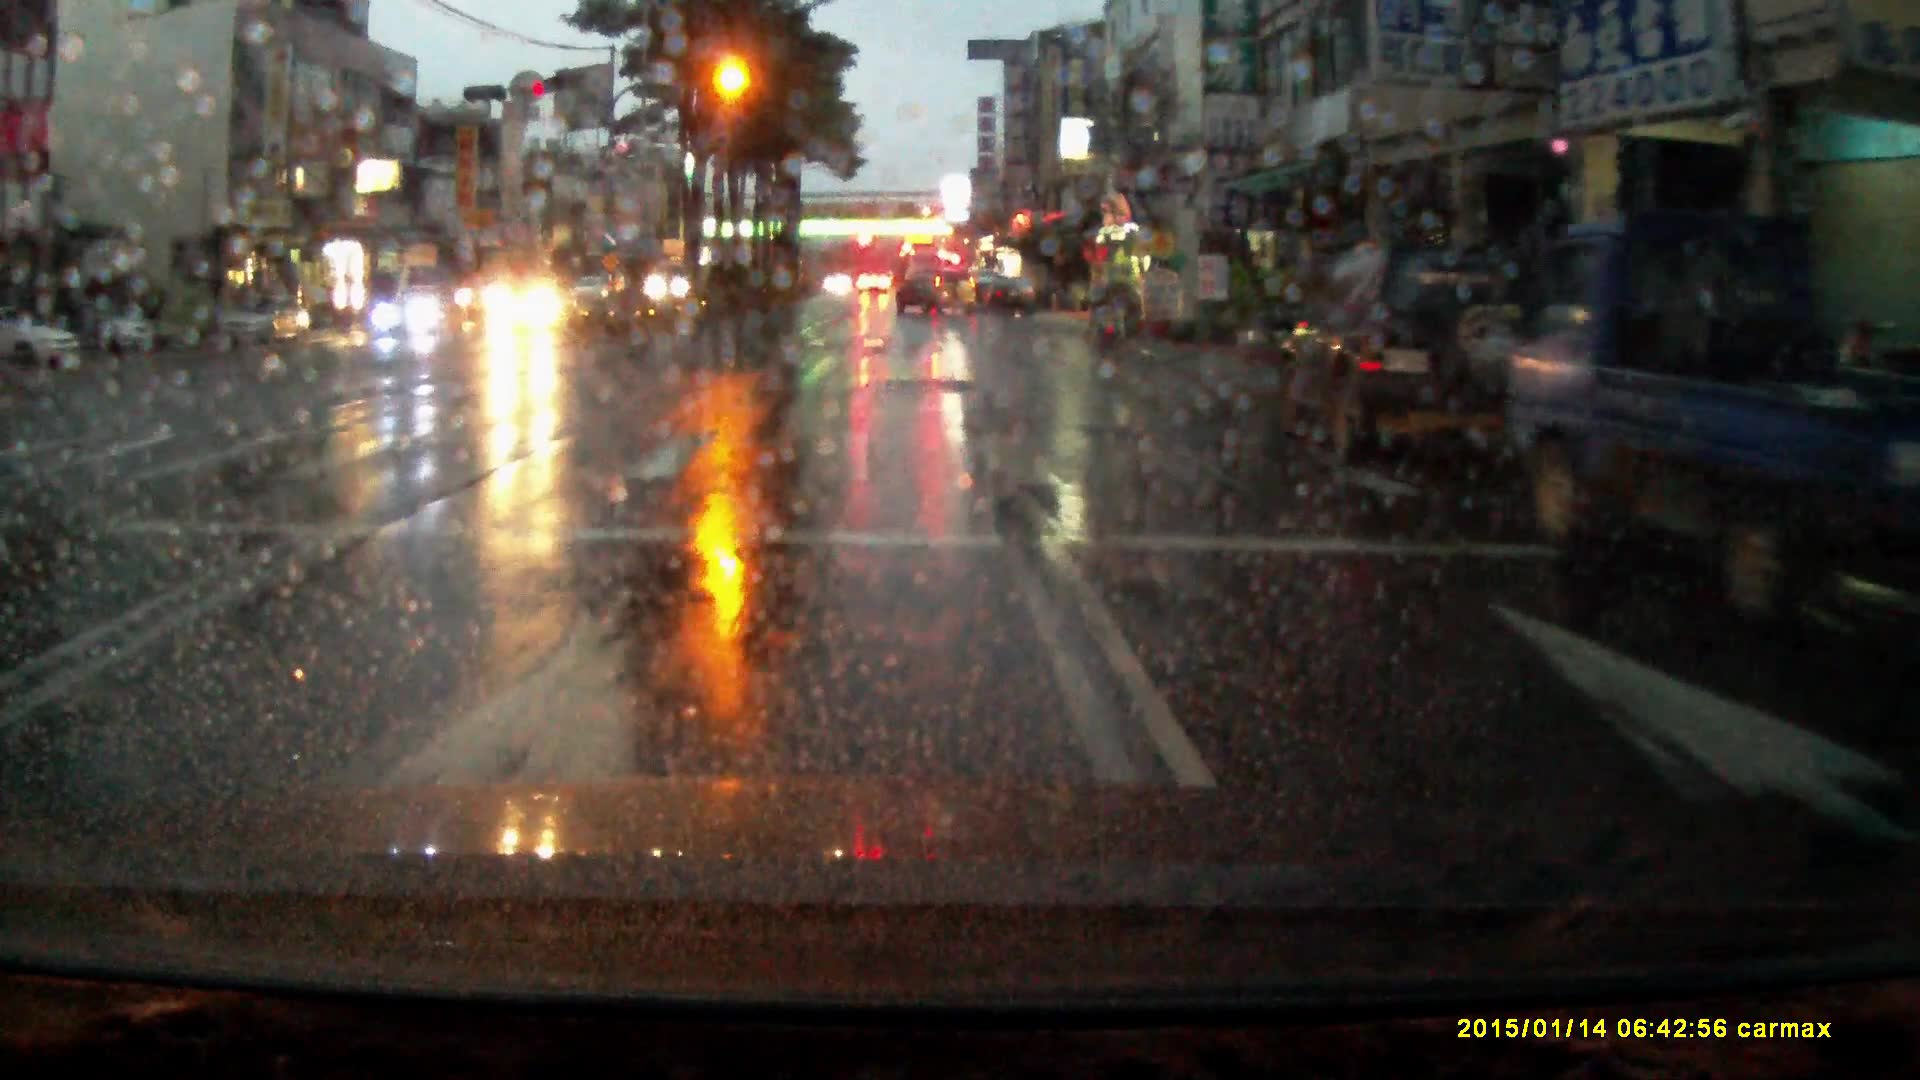vehicle: (1502, 222, 1888, 609), (1273, 251, 1545, 463), (479, 276, 578, 338), (218, 298, 313, 352), (1, 313, 80, 371), (894, 269, 977, 323), (375, 284, 458, 338), (95, 305, 161, 357), (901, 251, 944, 309), (984, 280, 1034, 319), (857, 272, 894, 298)
